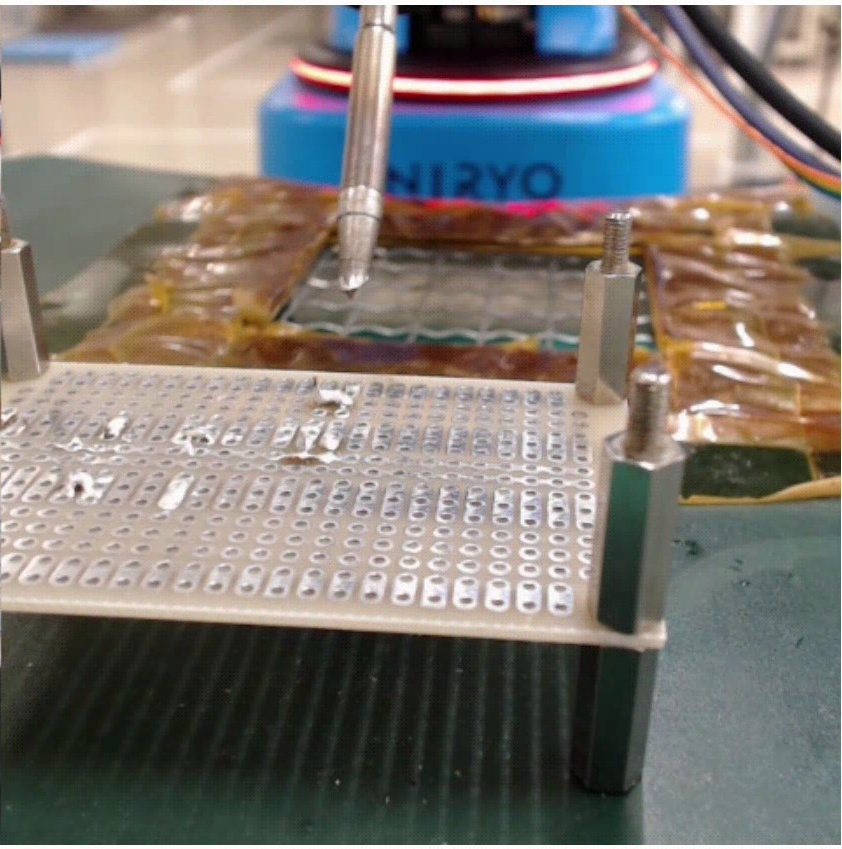soldering_iron: (335, 4, 399, 302)
